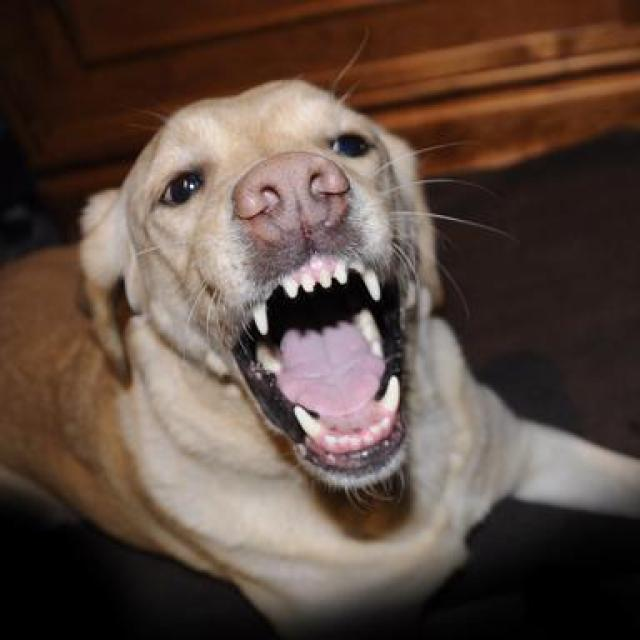angry: (64, 26, 525, 604)
